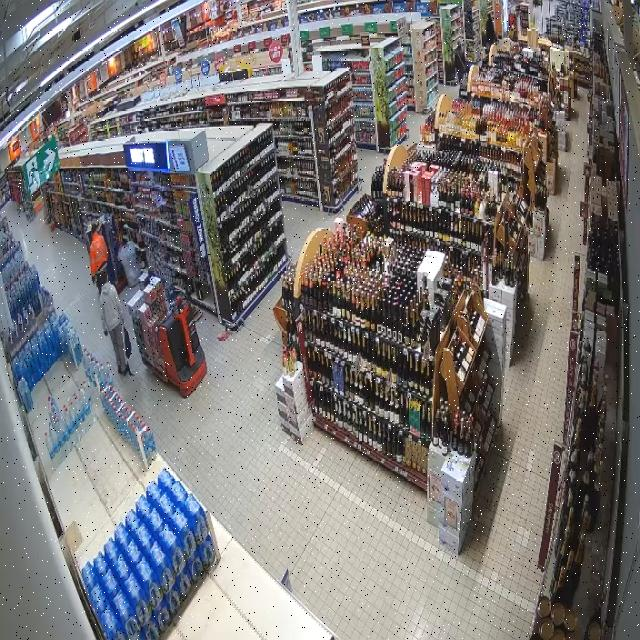bags: (123, 326, 131, 360)
hands: (91, 276, 96, 284), (104, 329, 108, 336)
person: (98, 272, 130, 374), (90, 223, 108, 284)
